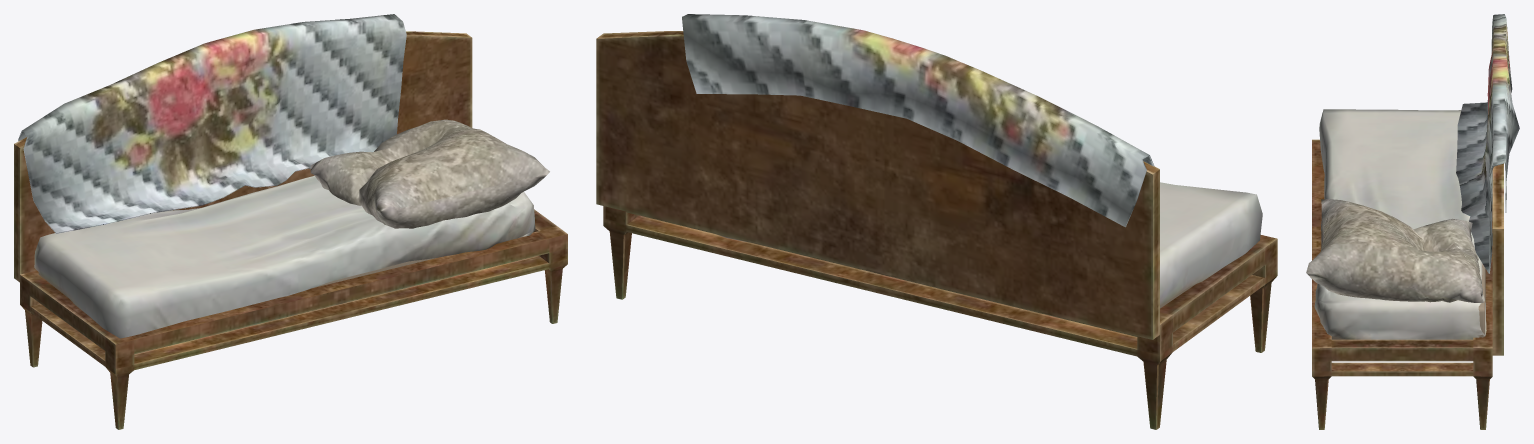
File: ph-vintage_day_bed.glb
3 views of the same model, side by side, from view 1: azimuth 30°, elevation 25°; view 2: azimuth 150°, elevation 25°; view 3: azimuth 270°, elevation 25° (orthographic). The views are drawn at different scales.
Visible parts, largest first — view 1: vintage_day_bed; view 2: vintage_day_bed; view 3: vintage_day_bed.
Boxes of the visible parts, <box> form: vintage_day_bed: <box>14,14,567,429</box>; vintage_day_bed: <box>596,14,1277,429</box>; vintage_day_bed: <box>1306,14,1519,429</box>.
Size of the model in its own units: 1 by 0.5715 by 0.4333.
Materials: 1 (1 with a texture image).
